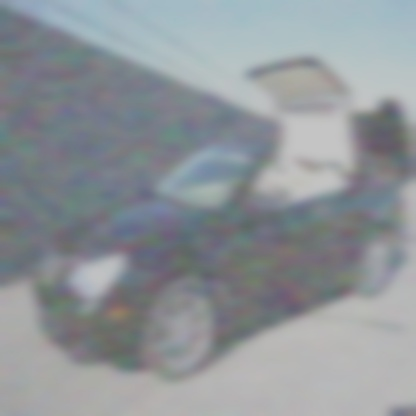Vehicle: (32, 56, 414, 384)
